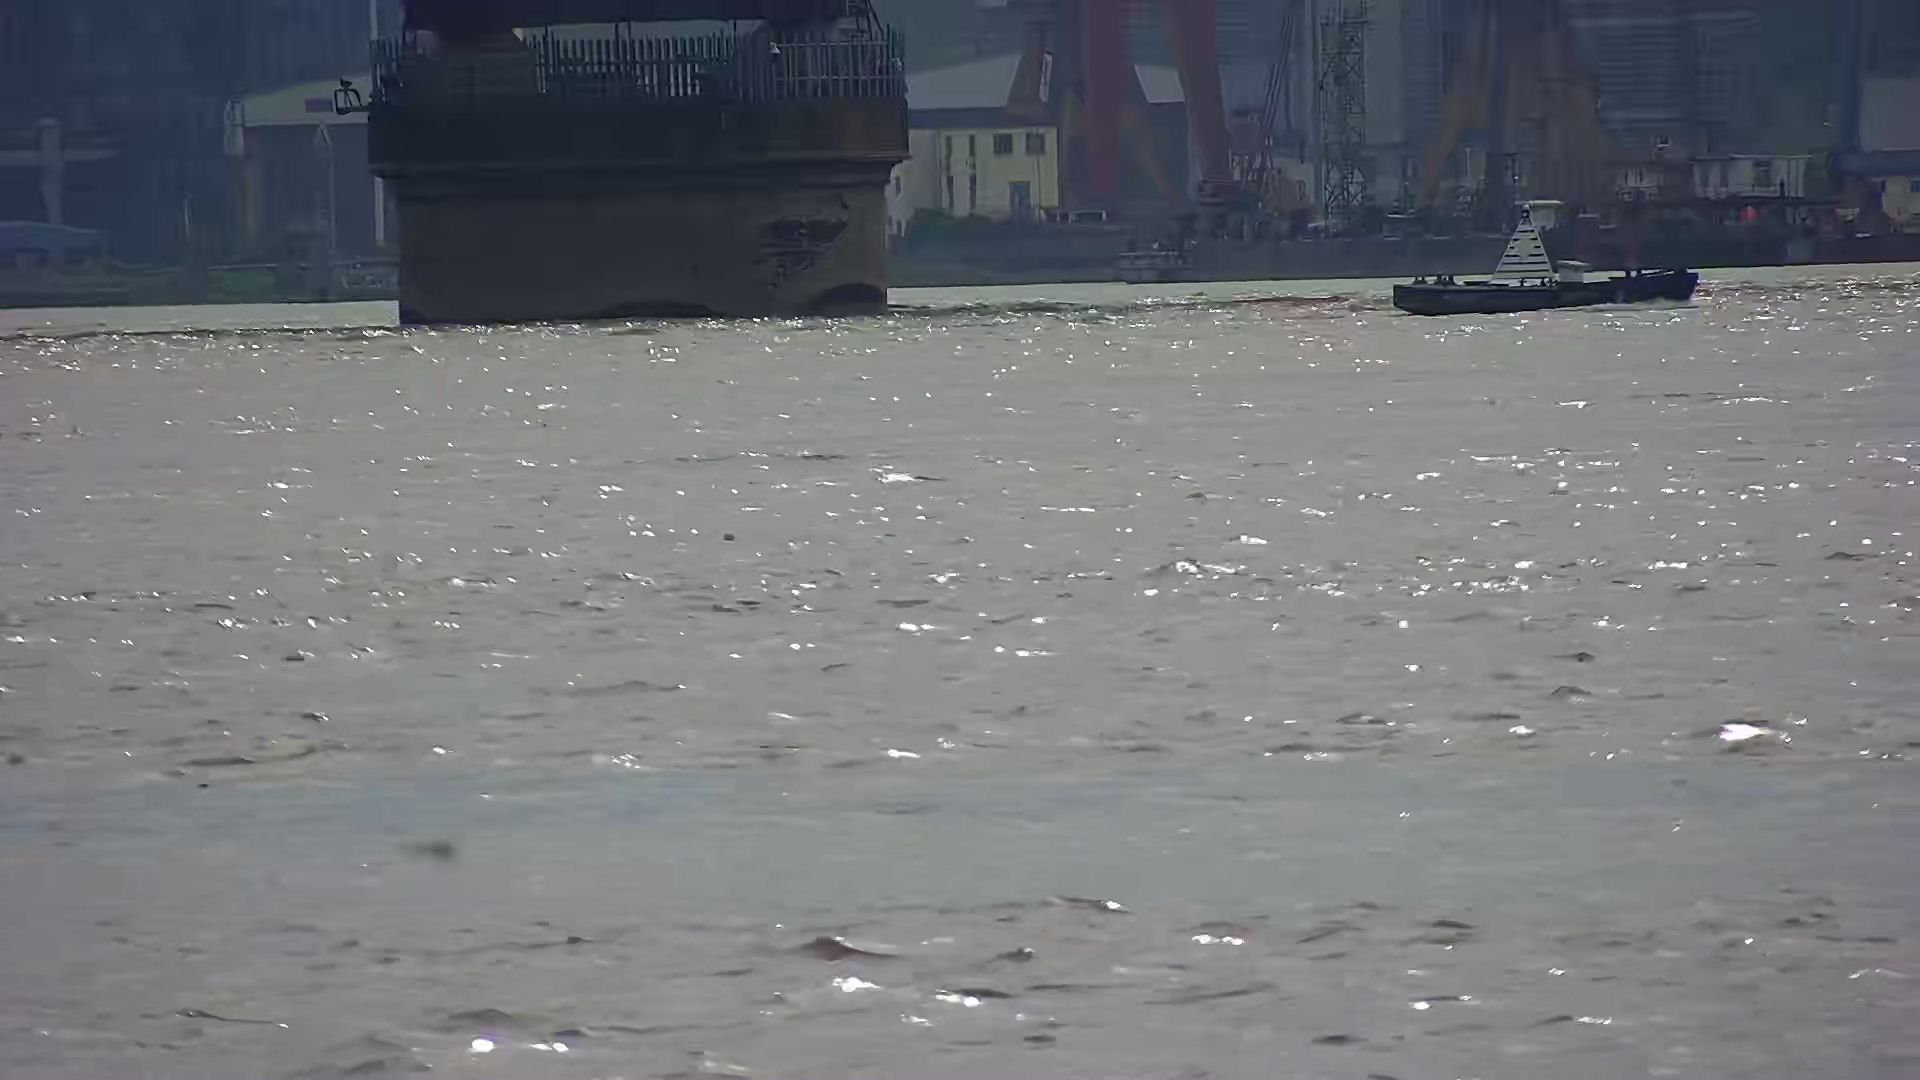boat: (1394, 206, 1701, 318)
bridge: (355, 3, 910, 322)
harbor: (1064, 153, 1832, 278)
